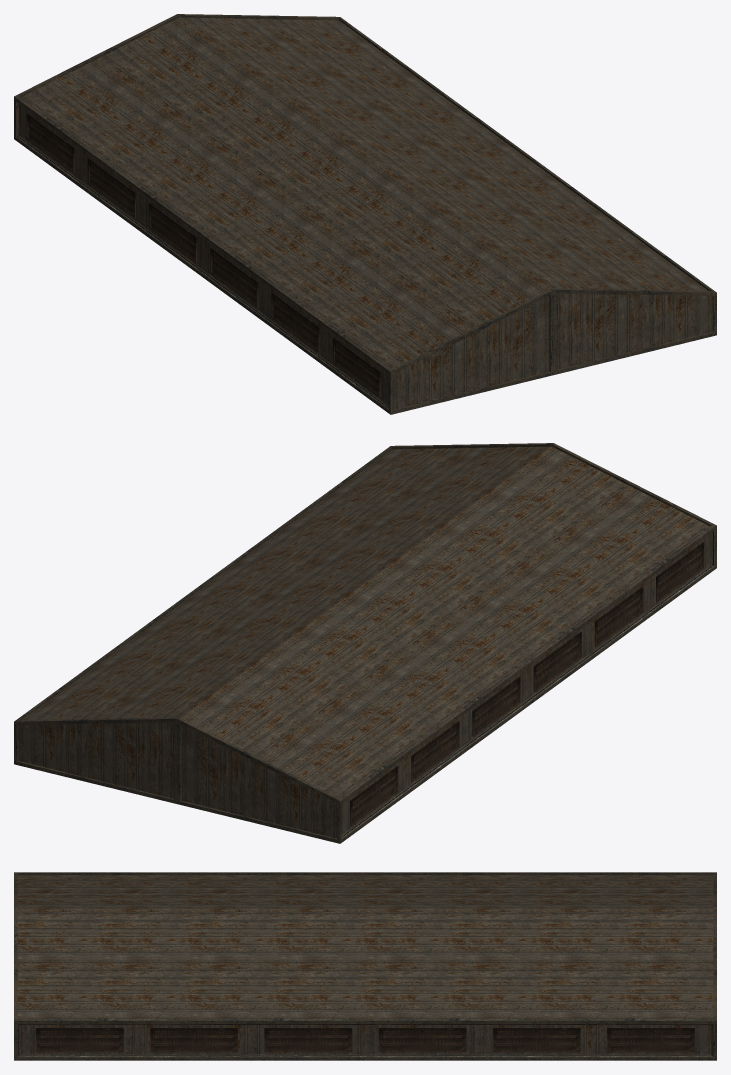
The model's file is roof_mh_4_b_4.glb.
3 renders of one model, top to bottom at view 1: azimuth 30°, elevation 25°; view 2: azimuth 150°, elevation 25°; view 3: azimuth 270°, elevation 25°, orthographic. The views are drawn at different scales.
Parts seen in each view (by area): view 1: roof_mh_4_b_4; view 2: roof_mh_4_b_4; view 3: roof_mh_4_b_4.
Part boxes in pixels (x1,y1,x2,y2): roof_mh_4_b_4: (14,14,716,414); roof_mh_4_b_4: (14,443,716,843); roof_mh_4_b_4: (14,872,716,1060).
Bounding box in the file's own units: 8 × 2 × 16.
Materials: 6 (6 with a texture image).
